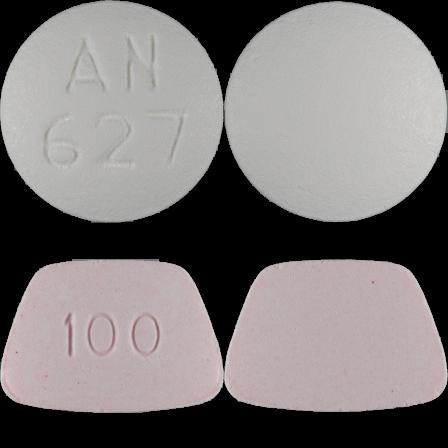68387-900: (0, 0, 224, 224)
